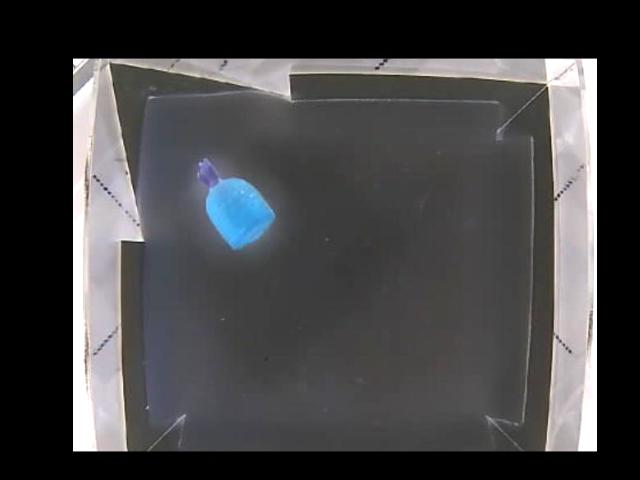Carrot: (197, 155, 273, 249)
